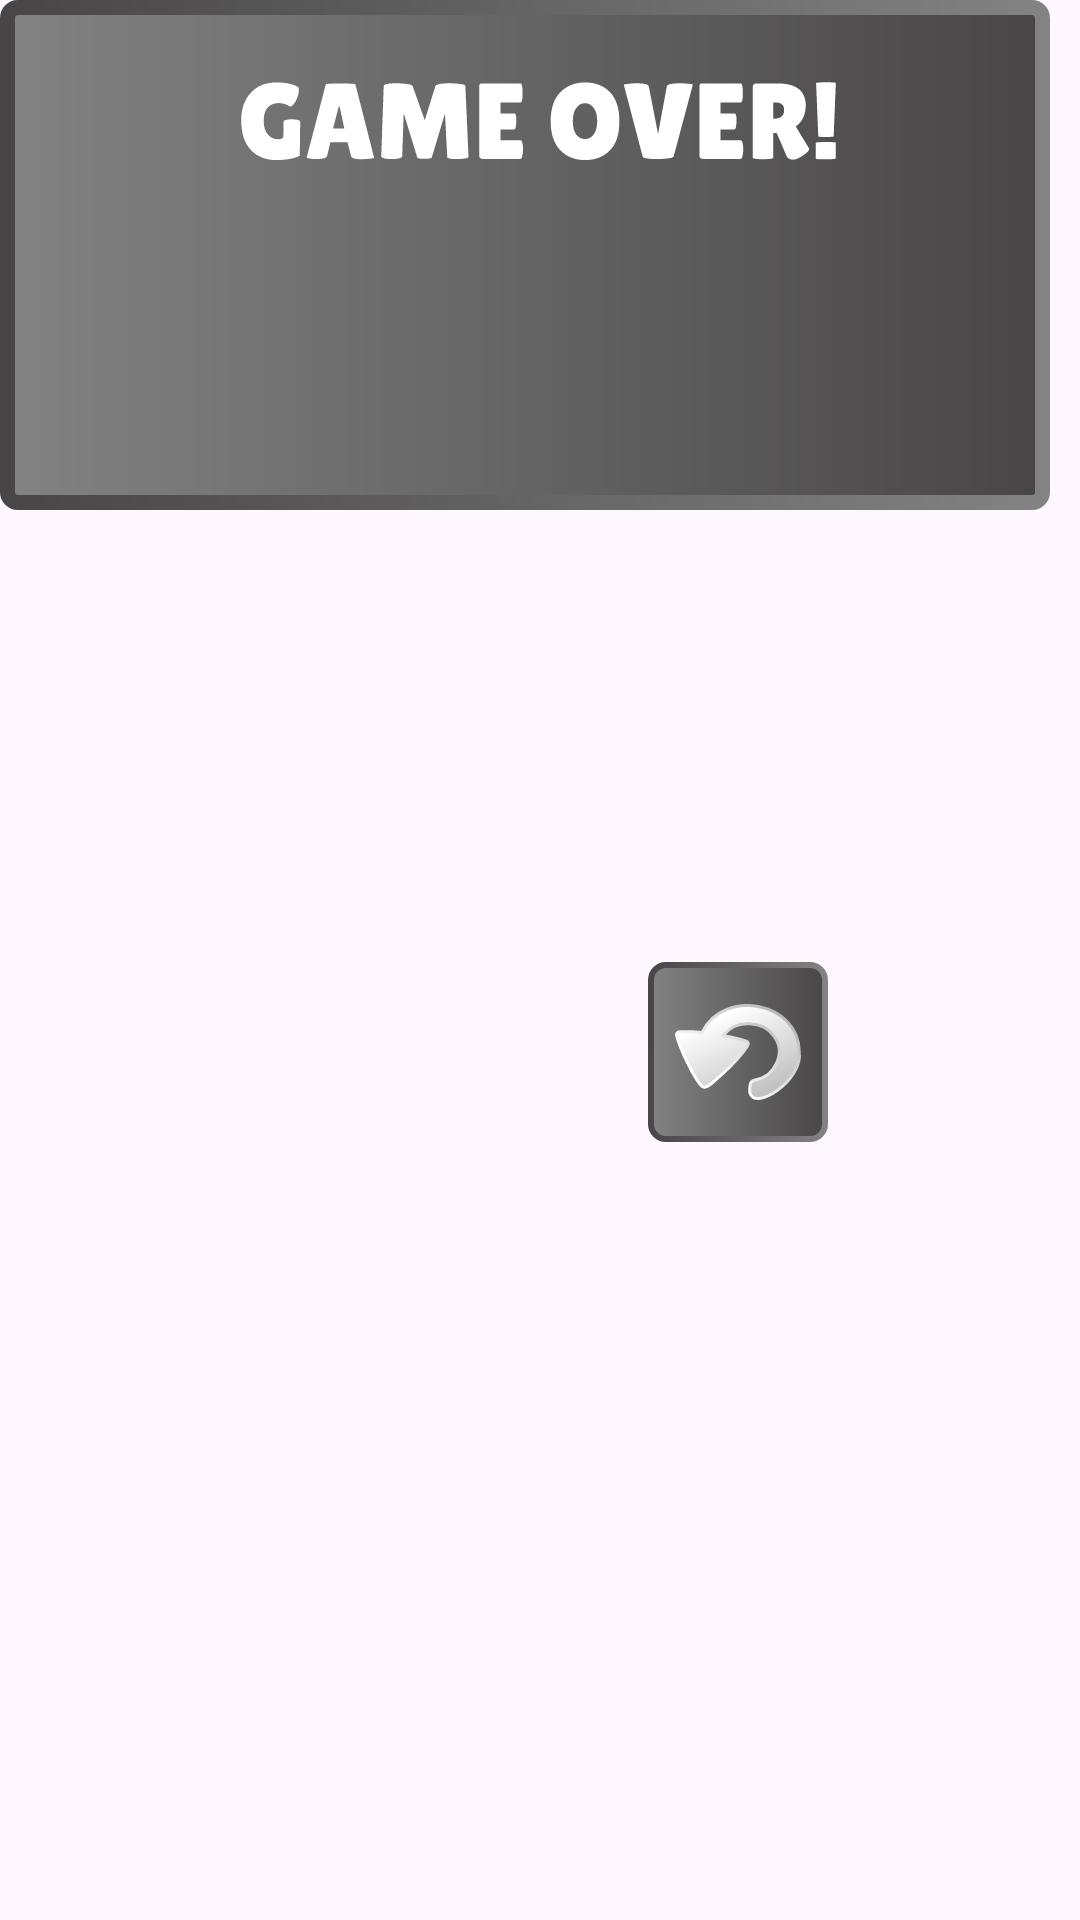

Icons on this 1080 x 1920 Android screen, each with the point to tap as (x=x, y=y):
reply sel: (x=738, y=1052)
